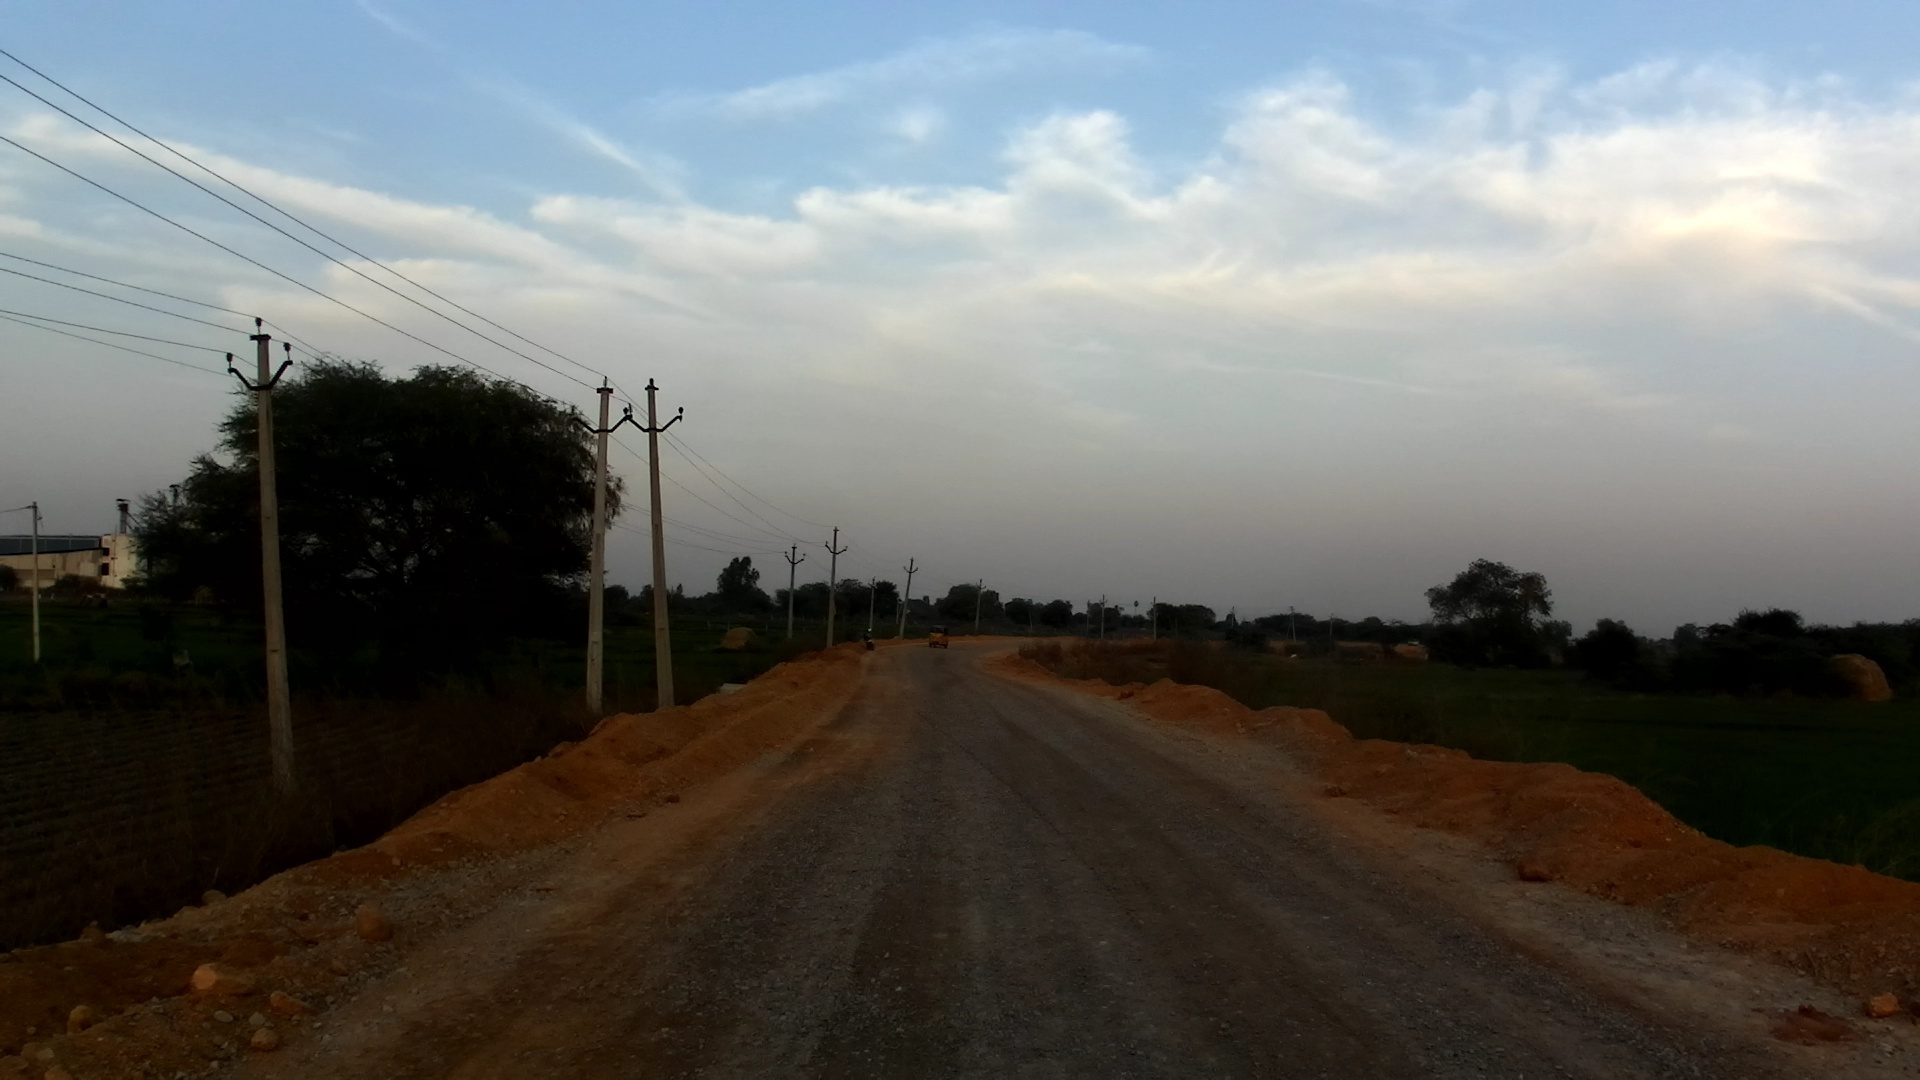autorickshaw: (926, 626, 952, 646)
motorcycle: (861, 626, 878, 654)
